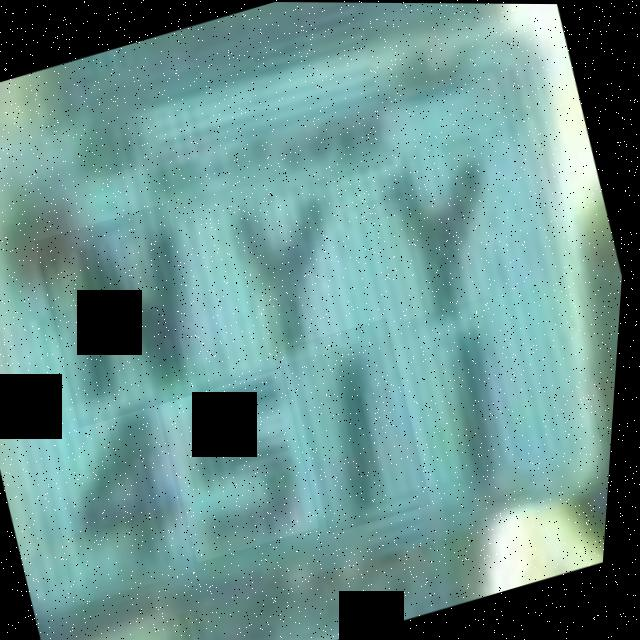1: (279, 316, 448, 534), (394, 294, 553, 517)
4: (29, 381, 213, 604)
5: (157, 368, 334, 563)
N: (28, 201, 225, 428)
Y: (336, 122, 534, 347), (184, 163, 376, 379)
